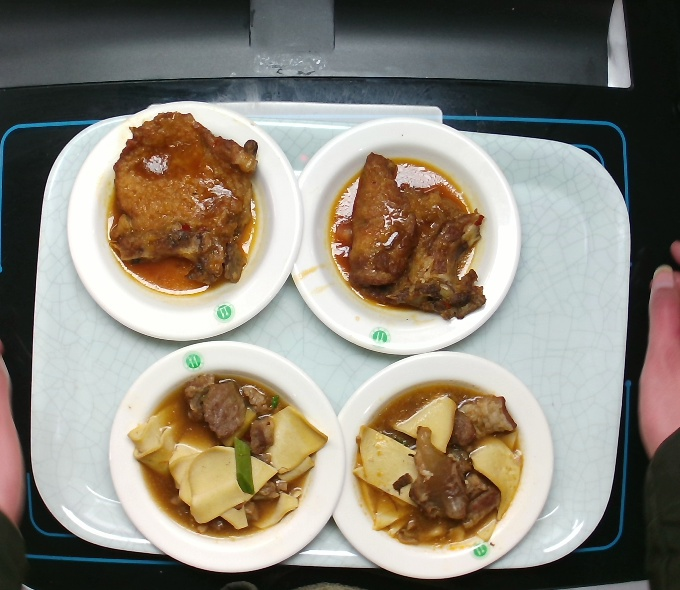wcq-DaPai: (97, 107, 267, 301), (319, 144, 493, 326)
wcq-QianZhangNiuRou: (121, 367, 333, 550), (344, 377, 530, 554)
